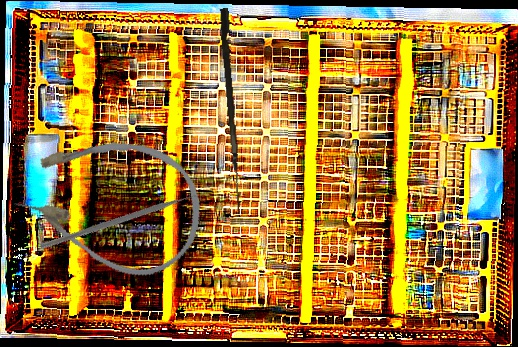Cannula: (4, 114, 216, 290)
Chopper: (40, 138, 207, 311)
Hook Surgical: (216, 7, 250, 215)
